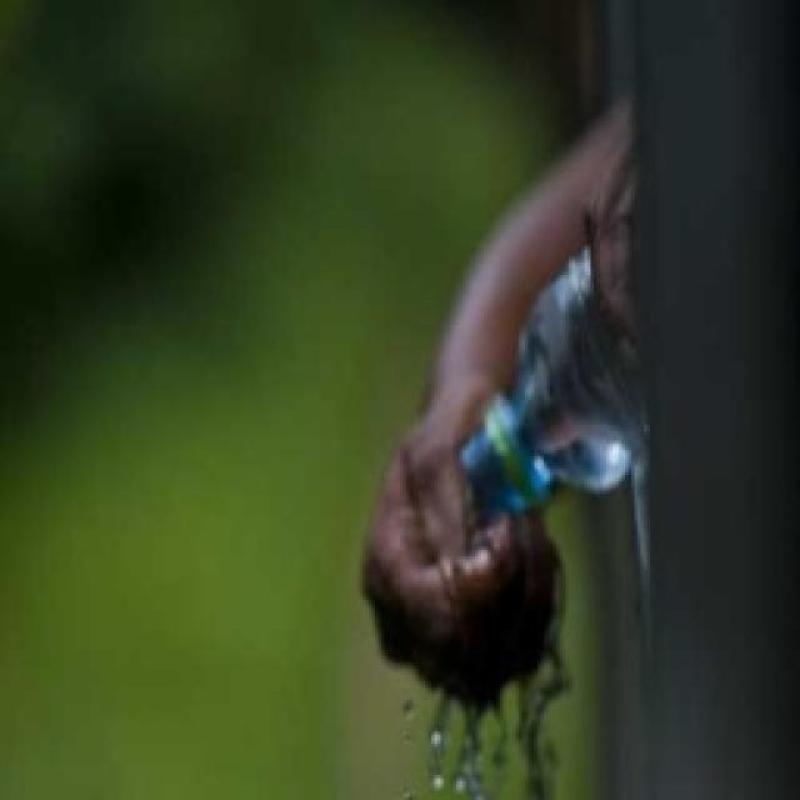botella: (460, 242, 634, 514)
